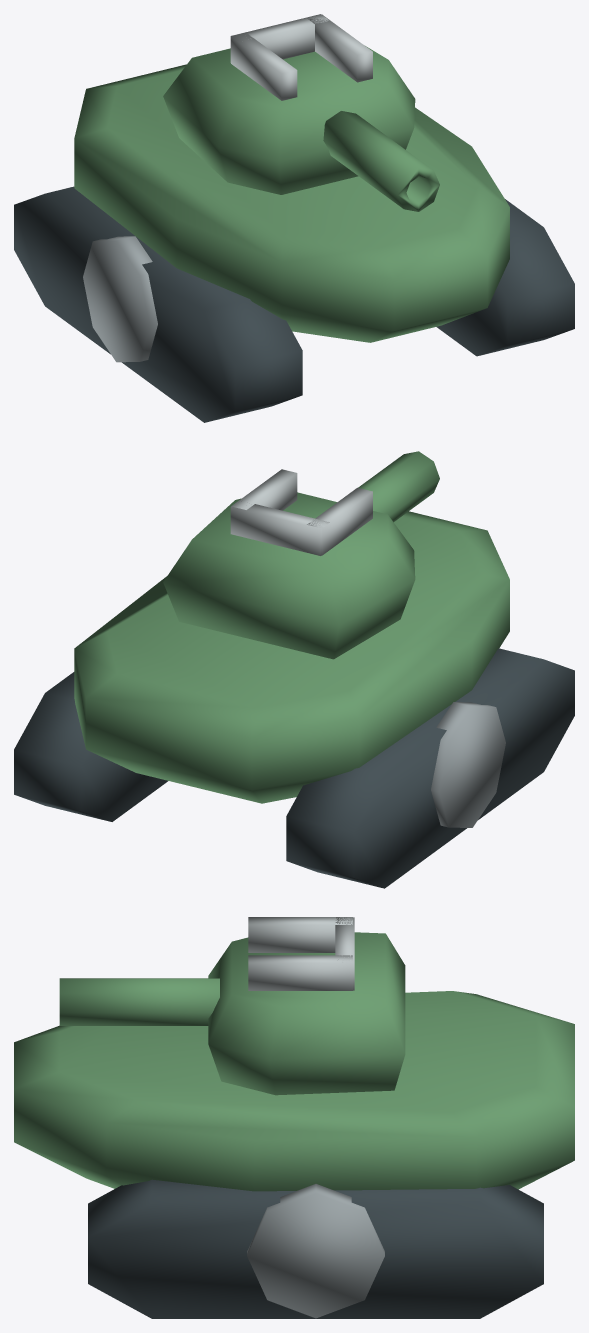
The model's file is TOY_BANKER.shadow.glb.
3 views of the same model, one above another, from view 1: azimuth 30°, elevation 25°; view 2: azimuth 150°, elevation 25°; view 3: azimuth 270°, elevation 25° (orthographic). The views are drawn at different scales.
Visible parts, largest first — view 1: Body, TurretYaw, WheelLeft, BarrelRecoil; view 2: Body, TurretYaw, WheelLeft, BarrelRecoil; view 3: Body, TurretYaw, WheelRight, BarrelRecoil.
Boxes of the visible parts, left/top/right/bottom form: Body: left=14, top=64, right=574, bottom=422; TurretYaw: left=163, top=14, right=415, bottom=194; WheelLeft: left=83, top=236, right=157, bottom=362; BarrelRecoil: left=323, top=111, right=439, bottom=211; Body: left=14, top=511, right=574, bottom=888; TurretYaw: left=163, top=469, right=415, bottom=659; WheelLeft: left=431, top=702, right=505, bottom=827; BarrelRecoil: left=358, top=451, right=439, bottom=522; Body: left=14, top=991, right=574, bottom=1318; TurretYaw: left=208, top=917, right=405, bottom=1095; WheelRight: left=247, top=1184, right=384, bottom=1318; BarrelRecoil: left=59, top=978, right=219, bottom=1025.
Size of the model in its own units: 0.6878 by 0.525 by 0.91.
